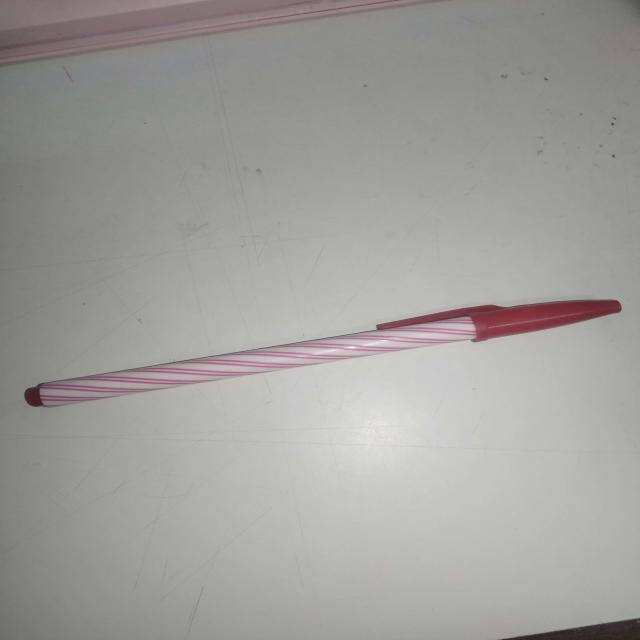pen_pencil: (12, 282, 629, 458)
